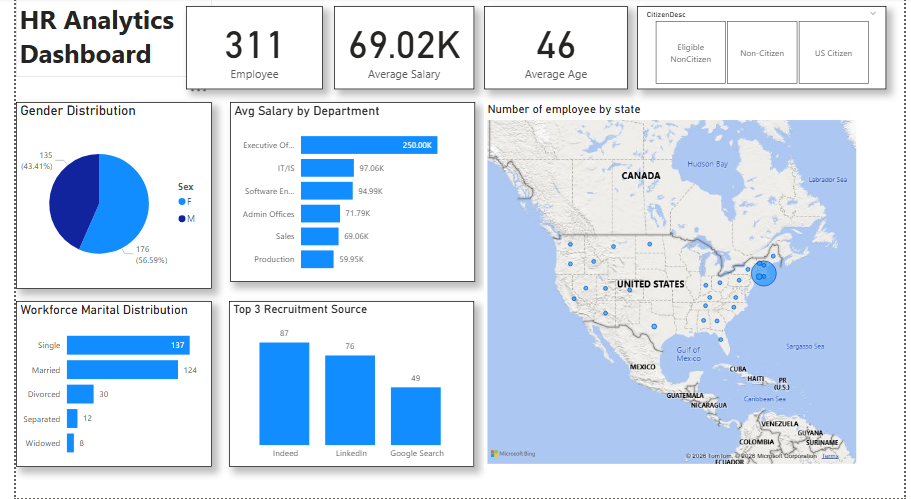

The page's visual inventory and layout, read from the dashboard file:
{"tool":"powerbi","page":{"name":"Second Dashboard","canvas":[1280,720],"ordinal":1},"visuals":[{"type":"qnaVisual","box":[371.2,226.8,13.4,230.1],"z":0},{"type":"pieChart","title":"Gender Distribution","fields":{"Category":["HR Data.Sex"],"Y":["CountNonNull(HR Data.EmpID)"]},"box":[0,149.8,282.2,269.3],"z":1000},{"type":"textbox","box":[0,0,282.2,113.8],"z":2000},{"type":"barChart","title":"Workforce Marital Distribution","fields":{"Category":["HR Data.MaritalDesc"],"Y":["CountNonNull(HR Data.EmpID)"]},"box":[0,436.3,282.2,239],"z":3000},{"type":"barChart","title":"Avg Salary by Department","fields":{"Category":["HR Data.Department"],"Y":["Avg(HR Data.Salary)"]},"box":[308.2,149.8,352.8,259.2],"z":4000},{"type":"columnChart","title":"Top 3 Recruitment Source","fields":{"Category":["HR Data.RecruitmentSource"],"Y":["CountNonNull(HR Data.EmpID)"]},"box":[307.4,436.7,352.8,238.5],"z":5000},{"type":"map","title":"Number of employee by state","fields":{"Category":["HR Data.State"],"Size":["CountNonNull(HR Data.EmpID)"]},"box":[673.6,149.5,540.9,525.8],"z":6000},{"type":"card","fields":{"Values":["CountNonNull(HR Data.EmpID)"]},"box":[244.8,11.5,197.3,119.5],"z":7000},{"type":"card","fields":{"Values":["Avg(HR Data.Salary)"]},"box":[457.9,11.5,201.6,119.5],"z":8000},{"type":"card","fields":{"Values":["Avg(HR Data.Age)"]},"box":[673.9,11.5,207.4,119.5],"z":9000},{"type":"slicer","fields":{"Values":["HR Data.CitizenDesc"]},"box":[894.2,11.5,358.6,119.5],"z":10000}]}

Visuals, with their boxes in screenshot pixels (x1, y1, x2, y2), scaled from the page's 1280x720 canvas onto the 911x499 screenshot:
qnaVisual: pyautogui.locateOnScreen(264, 157, 274, 317)
"Gender Distribution" pieChart: pyautogui.locateOnScreen(0, 104, 201, 290)
textbox: pyautogui.locateOnScreen(0, 0, 201, 79)
"Workforce Marital Distribution" barChart: pyautogui.locateOnScreen(0, 302, 201, 468)
"Avg Salary by Department" barChart: pyautogui.locateOnScreen(219, 104, 470, 283)
"Top 3 Recruitment Source" columnChart: pyautogui.locateOnScreen(219, 303, 470, 468)
"Number of employee by state" map: pyautogui.locateOnScreen(479, 104, 864, 468)
card - CountNonNull(HR Data.EmpID): pyautogui.locateOnScreen(174, 8, 315, 91)
card - Avg(HR Data.Salary): pyautogui.locateOnScreen(326, 8, 469, 91)
card - Avg(HR Data.Age): pyautogui.locateOnScreen(480, 8, 627, 91)
slicer - HR Data.CitizenDesc: pyautogui.locateOnScreen(636, 8, 892, 91)
